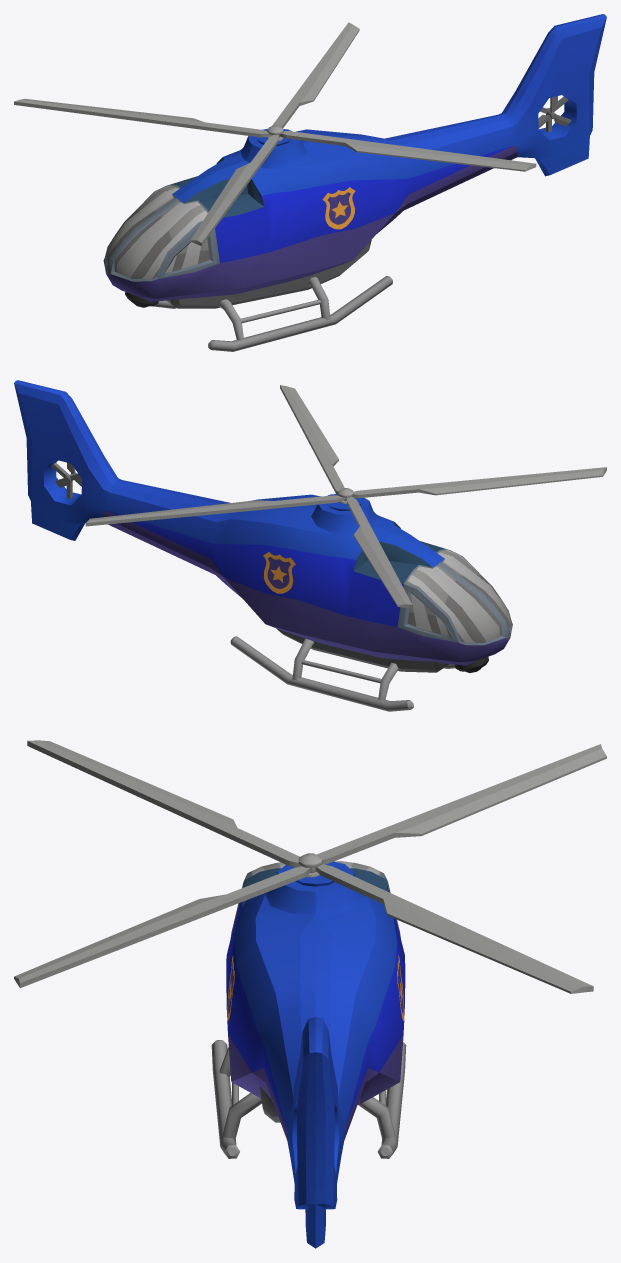
Rendered from Helicopter_1_A.fbx.
3 views of the same model, one above another, from view 1: azimuth 30°, elevation 25°; view 2: azimuth 150°, elevation 25°; view 3: azimuth 270°, elevation 25° (orthographic). The views are drawn at different scales.
Parts seen in each view (by area): view 1: Helicopter_1_A, Rotator_main, Rotator_Back; view 2: Helicopter_1_A, Rotator_main, Rotator_Back; view 3: Helicopter_1_A, Rotator_main.
Boxes of the visible parts, bbox=[...] form: Helicopter_1_A: bbox=[103, 14, 606, 351]; Rotator_main: bbox=[14, 22, 536, 245]; Rotator_Back: bbox=[538, 96, 571, 132]; Helicopter_1_A: bbox=[14, 380, 512, 711]; Rotator_main: bbox=[85, 385, 606, 608]; Rotator_Back: bbox=[51, 462, 81, 498]; Helicopter_1_A: bbox=[211, 861, 406, 1248]; Rotator_main: bbox=[14, 740, 606, 993].
Size of the model in its own units: 1055 by 429 by 719.
